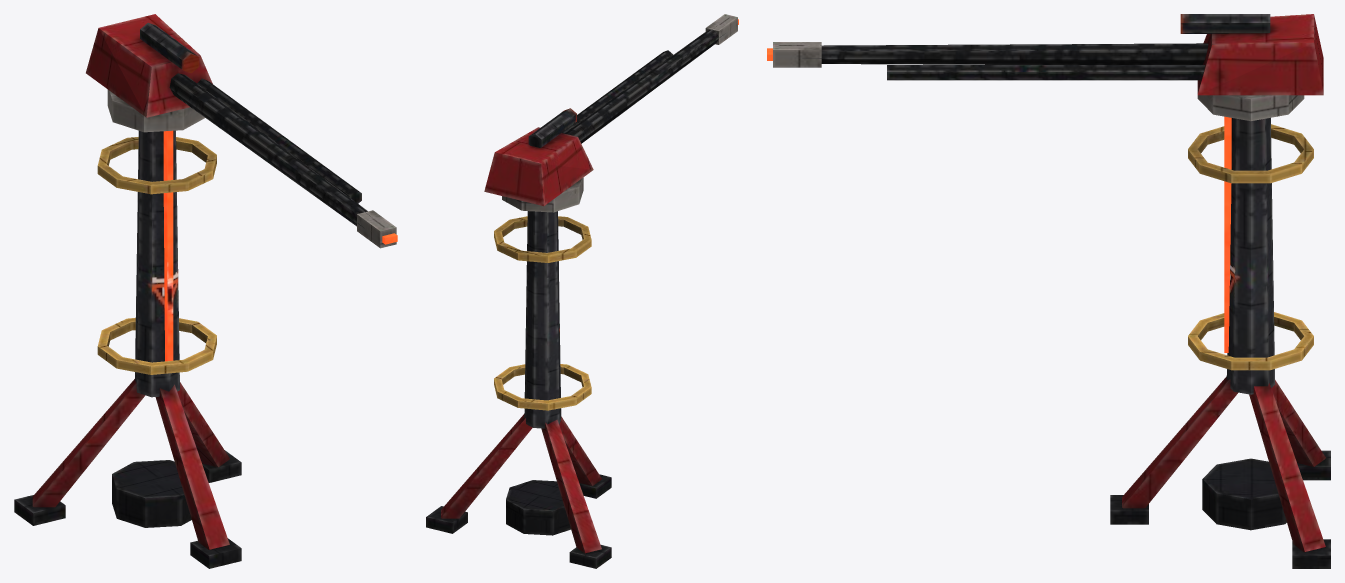
Rendered from u_spire3_e.glb.
3 renders of one model, left to right at view 1: azimuth 30°, elevation 25°; view 2: azimuth 150°, elevation 25°; view 3: azimuth 270°, elevation 25°, orthographic. The views are drawn at different scales.
Visible parts, largest first — view 1: u_spire3_e; view 2: u_spire3_e; view 3: u_spire3_e.
Boxes of the visible parts, x1,y1,x2,y2 form: u_spire3_e: (14, 14, 397, 568); u_spire3_e: (426, 14, 738, 568); u_spire3_e: (767, 14, 1330, 568).
Bounding box in the file's own units: 1.19 × 2.65 × 2.7.
Materials: 1 (1 with a texture image).
